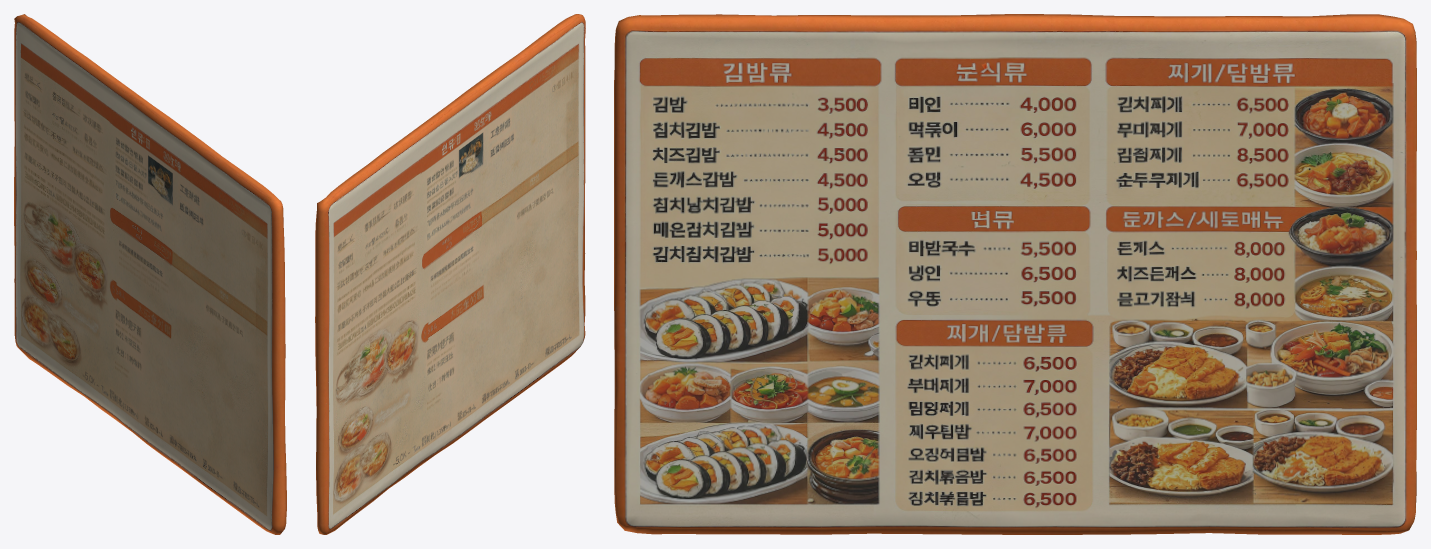
Rendered from Menu.fbx.
The picture shows the model from 3 angles, left to right: view 1: azimuth 30°, elevation 25°; view 2: azimuth 150°, elevation 25°; view 3: azimuth 270°, elevation 25°; orthographic projection. The views are drawn at different scales.
Parts seen in each view (by area): view 1: tripo_node_b011c241; view 2: tripo_node_b011c241; view 3: tripo_node_b011c241.
Boxes of the visible parts, x1,y1,x2,y2 form: tripo_node_b011c241: (14, 14, 286, 534); tripo_node_b011c241: (315, 14, 585, 534); tripo_node_b011c241: (614, 14, 1416, 534).
Size of the model in its own units: 0.0291 by 0.7094 by 0.9986.
1 material, 1 textured.
